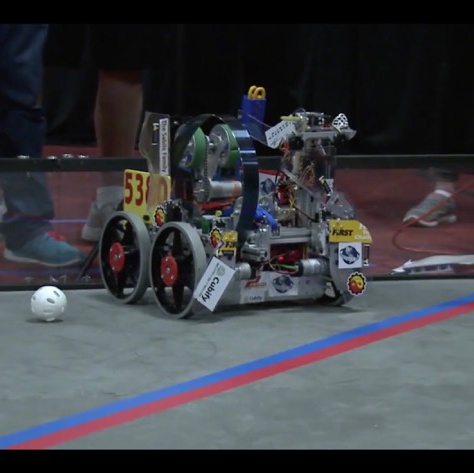robot: (96, 81, 375, 313)
